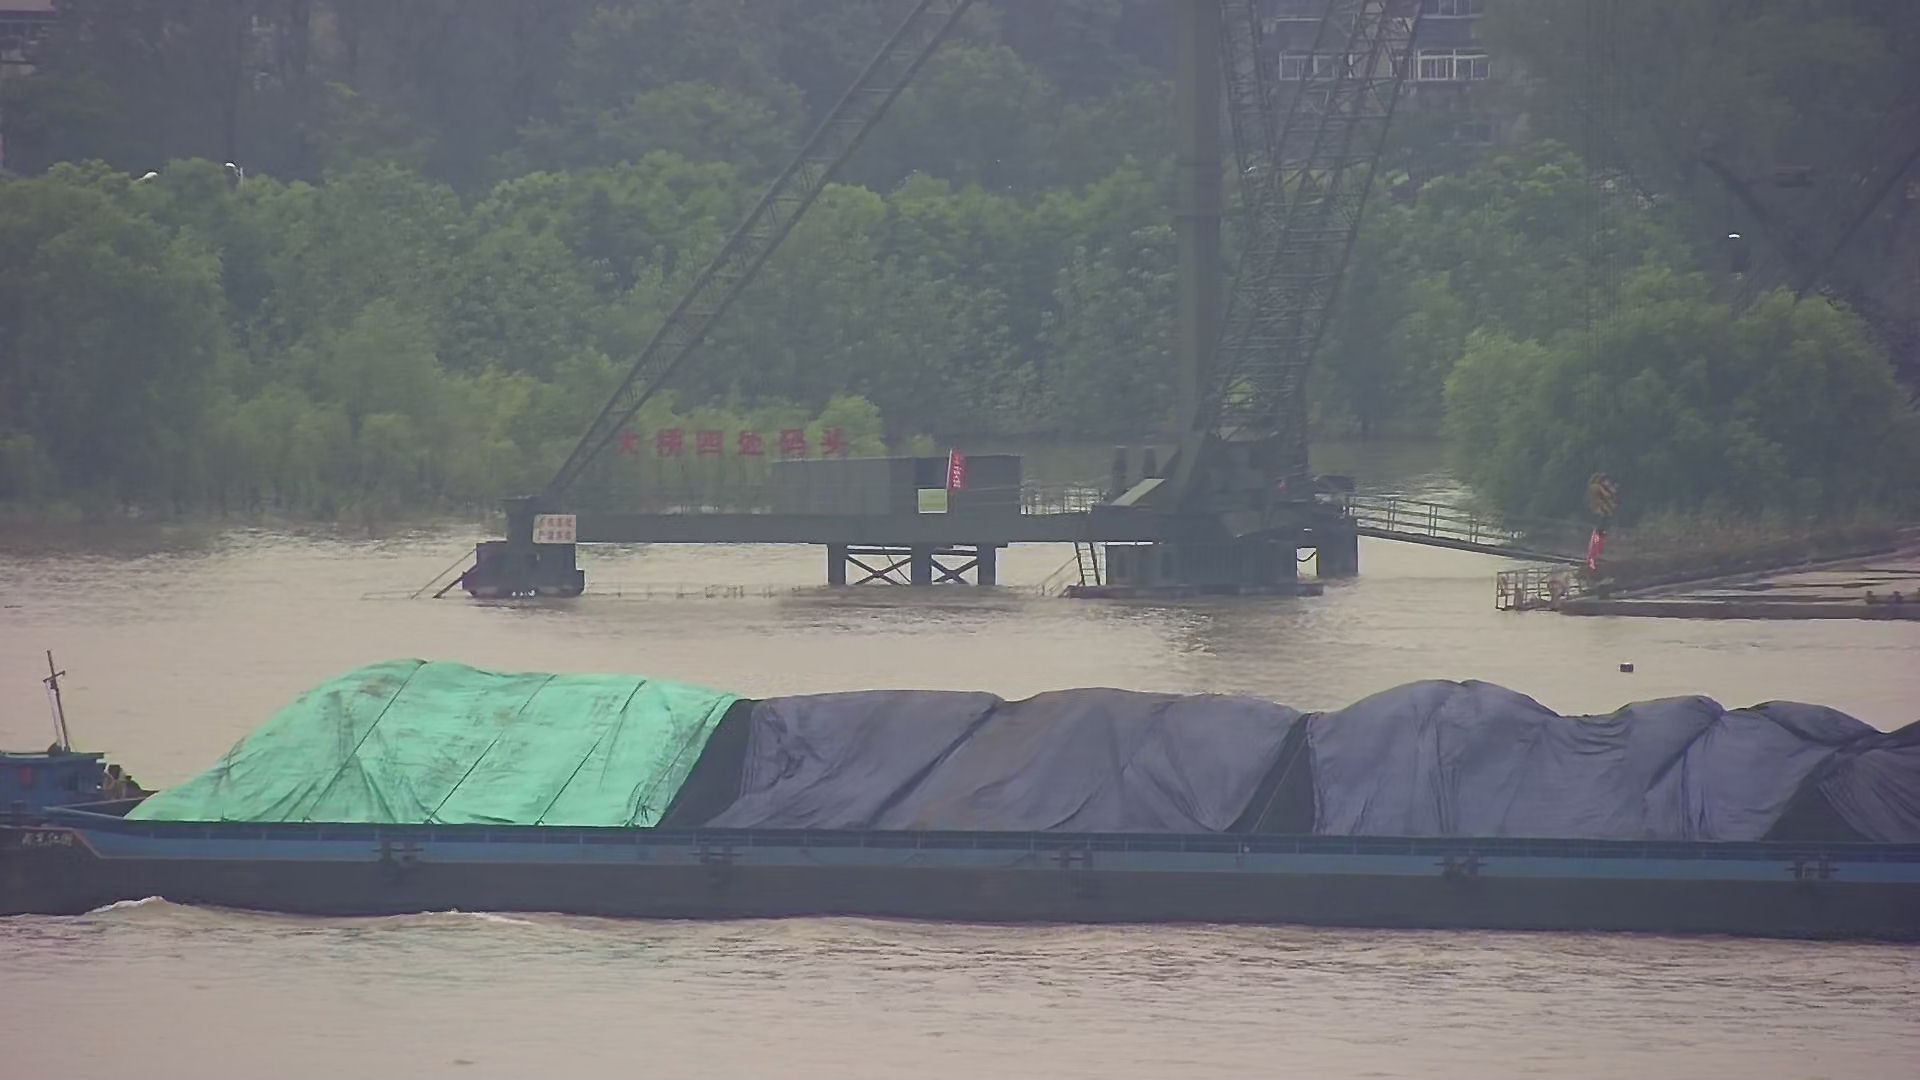platform: (392, 1, 1465, 608)
rubbish: (1613, 647, 1646, 683)
ship: (11, 638, 1920, 949)
